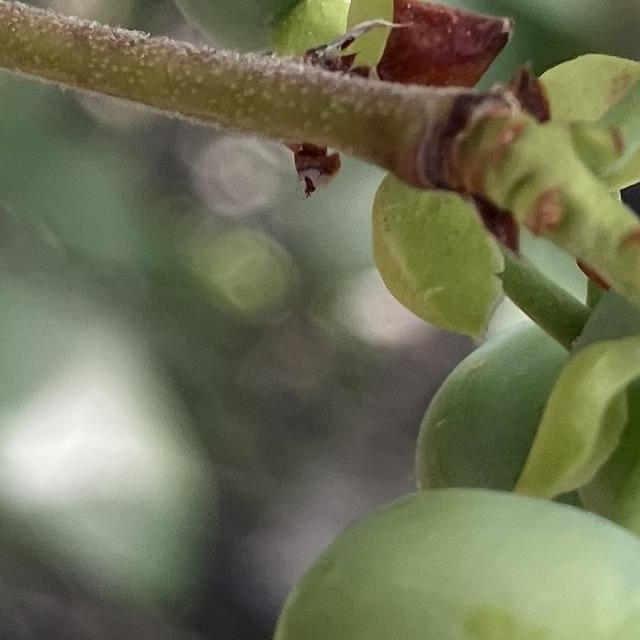Blueberries: (251, 481, 640, 640)
